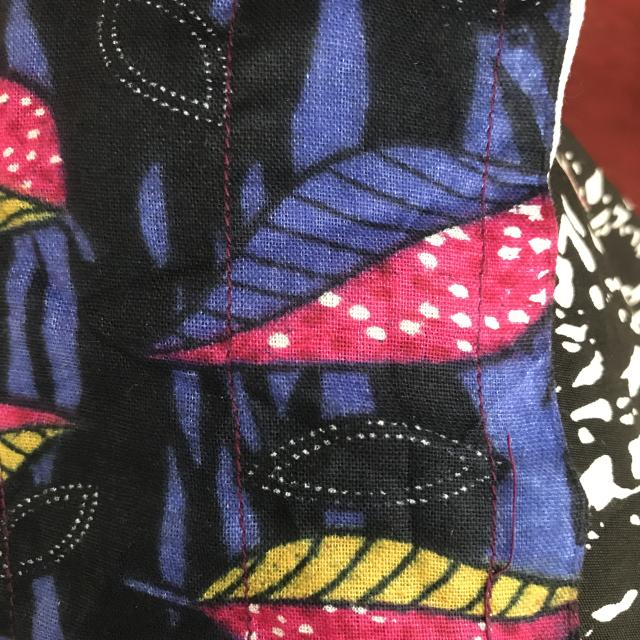good: (206, 116, 245, 259)
